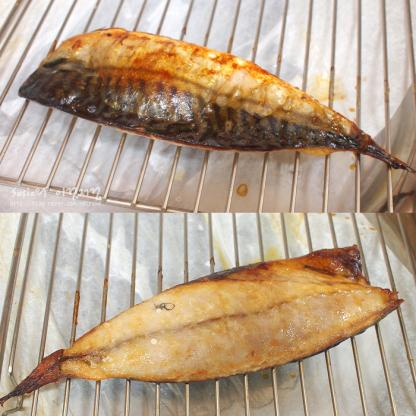Peixe: (22, 230, 399, 414), (32, 27, 416, 182)
